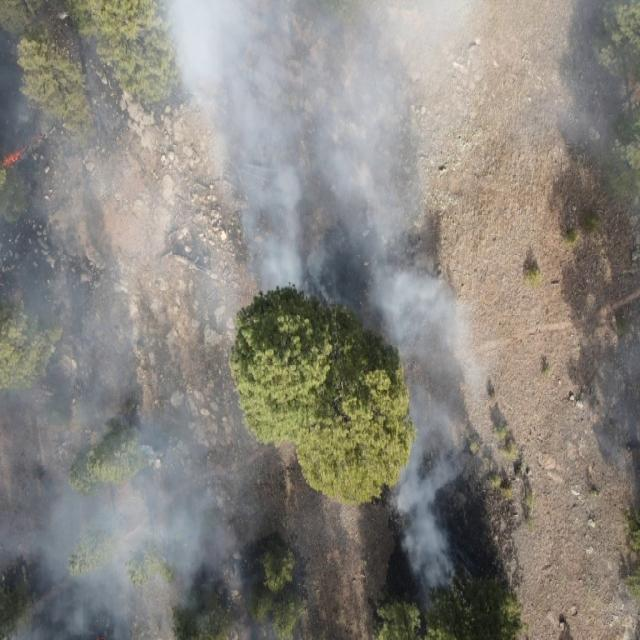fire: (0, 143, 30, 169), (94, 635, 112, 640), (37, 132, 48, 140)
smoke: (0, 0, 485, 640), (485, 0, 640, 184), (586, 332, 640, 502), (580, 184, 640, 226)
